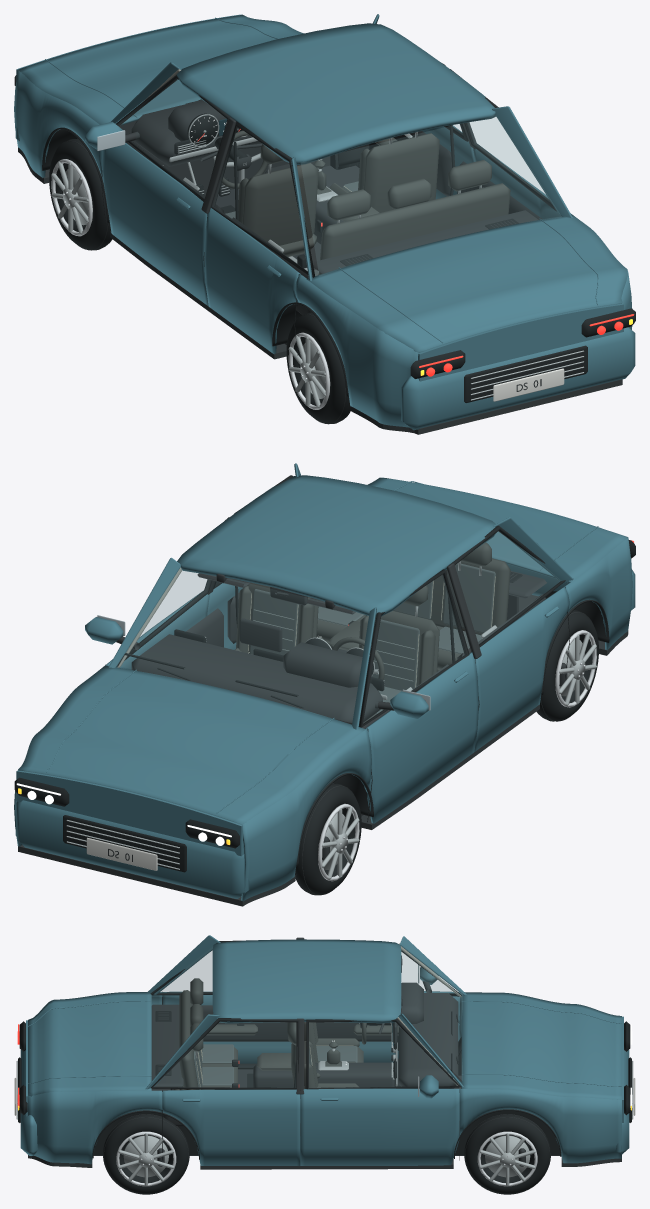
File: DS_Sedan_A_cabin_v3.glb
The picture shows the model from 3 angles, top to bottom: view 1: azimuth 30°, elevation 25°; view 2: azimuth 150°, elevation 25°; view 3: azimuth 270°, elevation 25°; orthographic projection. The views are drawn at different scales.
Parts seen in each view (by area): view 1: Roof, Trunk, Glass_Rear, Hood, DoorFront_L, DoorRear_L, RearQuarter_L, BumperFacia_-1, Glass_Rear_L, Glass_Front_L, RearBench_Backrest, Shell_RearUpperFacia (+33 smaller); view 2: Hood, Roof, Glass_Windshield, DoorFront_L, Dashboard, DoorRear_L, Trunk, Glass_Front_L, FrontWing_L, BumperFacia_1, Glass_Rear_L, Shell_FrontUpperFacia (+34 smaller); view 3: Roof, Hood, DoorFront_R, Trunk, DoorRear_R, Glass_Front_R, Glass_Rear_R, FrontWing_R, RearQuarter_R, Glass_Windshield, Glass_Rear, Dashboard (+31 smaller).
Boxes of the visible parts, x1=… form: Roof: x1=176, y1=23, x2=495, y2=164; Trunk: x1=306, y1=214, x2=627, y2=352; Glass_Rear: x1=301, y1=115, x2=560, y2=275; Hood: x1=18, y1=14, x2=303, y2=125; DoorFront_L: x1=101, y1=143, x2=208, y2=306; DoorRear_L: x1=204, y1=208, x2=300, y2=354; RearQuarter_L: x1=294, y1=274, x2=419, y2=429; BumperFacia_-1: x1=401, y1=327, x2=635, y2=430; Glass_Rear_L: x1=214, y1=127, x2=306, y2=270; Glass_Front_L: x1=119, y1=81, x2=226, y2=197; RearBench_Backrest: x1=318, y1=183, x2=510, y2=274; Shell_RearUpperFacia: x1=418, y1=303, x2=623, y2=381; Hood: x1=18, y1=665, x2=365, y2=824; Roof: x1=177, y1=475, x2=495, y2=616; Glass_Windshield: x1=117, y1=568, x2=368, y2=722; DoorFront_L: x1=366, y1=652, x2=478, y2=823; Dashboard: x1=131, y1=634, x2=382, y2=724; DoorRear_L: x1=474, y1=587, x2=569, y2=751; Trunk: x1=367, y1=477, x2=627, y2=582; Glass_Front_L: x1=364, y1=575, x2=464, y2=722; FrontWing_L: x1=241, y1=728, x2=371, y2=901; BumperFacia_1: x1=15, y1=800, x2=249, y2=898; Glass_Rear_L: x1=456, y1=532, x2=559, y2=643; Shell_FrontUpperFacia: x1=16, y1=770, x2=243, y2=856; Roof: x1=212, y1=939, x2=401, y2=1023; Hood: x1=461, y1=992, x2=621, y2=1099; DoorFront_R: x1=300, y1=1088, x2=459, y2=1165; Trunk: x1=28, y1=992, x2=151, y2=1096; DoorRear_R: x1=162, y1=1089, x2=300, y2=1165; Glass_Front_R: x1=309, y1=1022, x2=456, y2=1087; Glass_Rear_R: x1=155, y1=1022, x2=295, y2=1087; FrontWing_R: x1=459, y1=1088, x2=621, y2=1163; RearQuarter_R: x1=28, y1=1090, x2=162, y2=1164; Glass_Windshield: x1=402, y1=951, x2=462, y2=1079; Glass_Rear: x1=150, y1=947, x2=212, y2=1081; Dashboard: x1=398, y1=993, x2=458, y2=1088.
Bounding box in the file's own units: 2.25 × 1.46 × 4.68.
